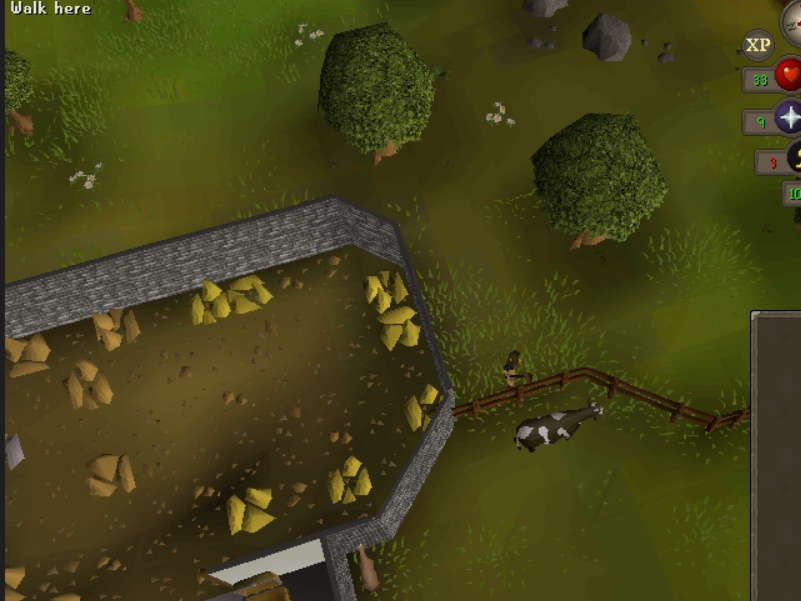clay: (79, 449, 149, 500), (60, 355, 116, 409), (1, 326, 56, 380), (88, 302, 145, 350), (1, 562, 29, 601)
gold: (184, 274, 233, 333), (226, 263, 275, 322), (324, 452, 375, 508), (225, 484, 276, 540), (400, 381, 452, 434), (363, 264, 410, 314), (374, 306, 422, 353)
